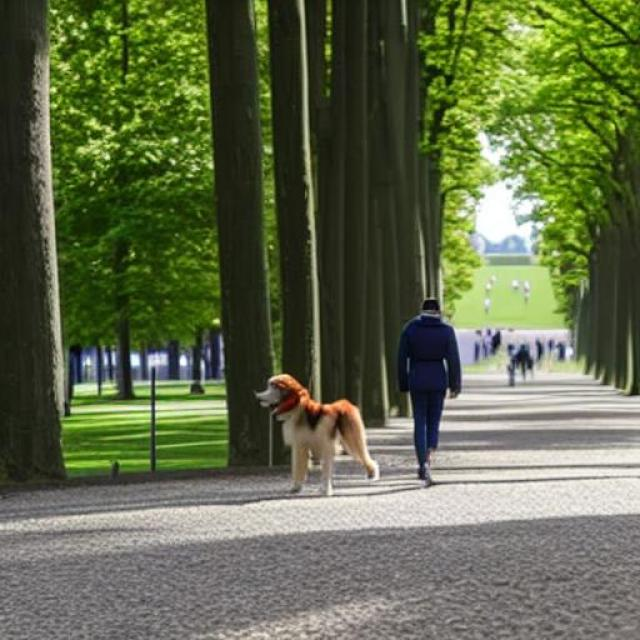Unleashed_Dog: (255, 371, 450, 497)
